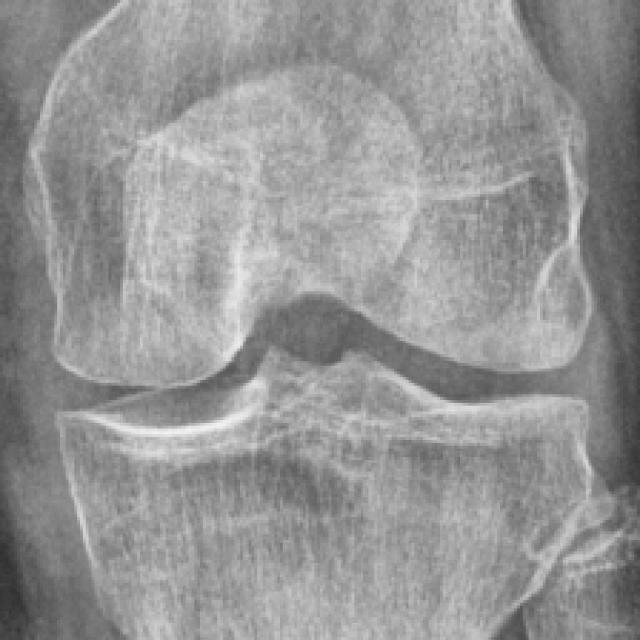femur: (22, 0, 597, 389)
tibia: (62, 348, 618, 640)
